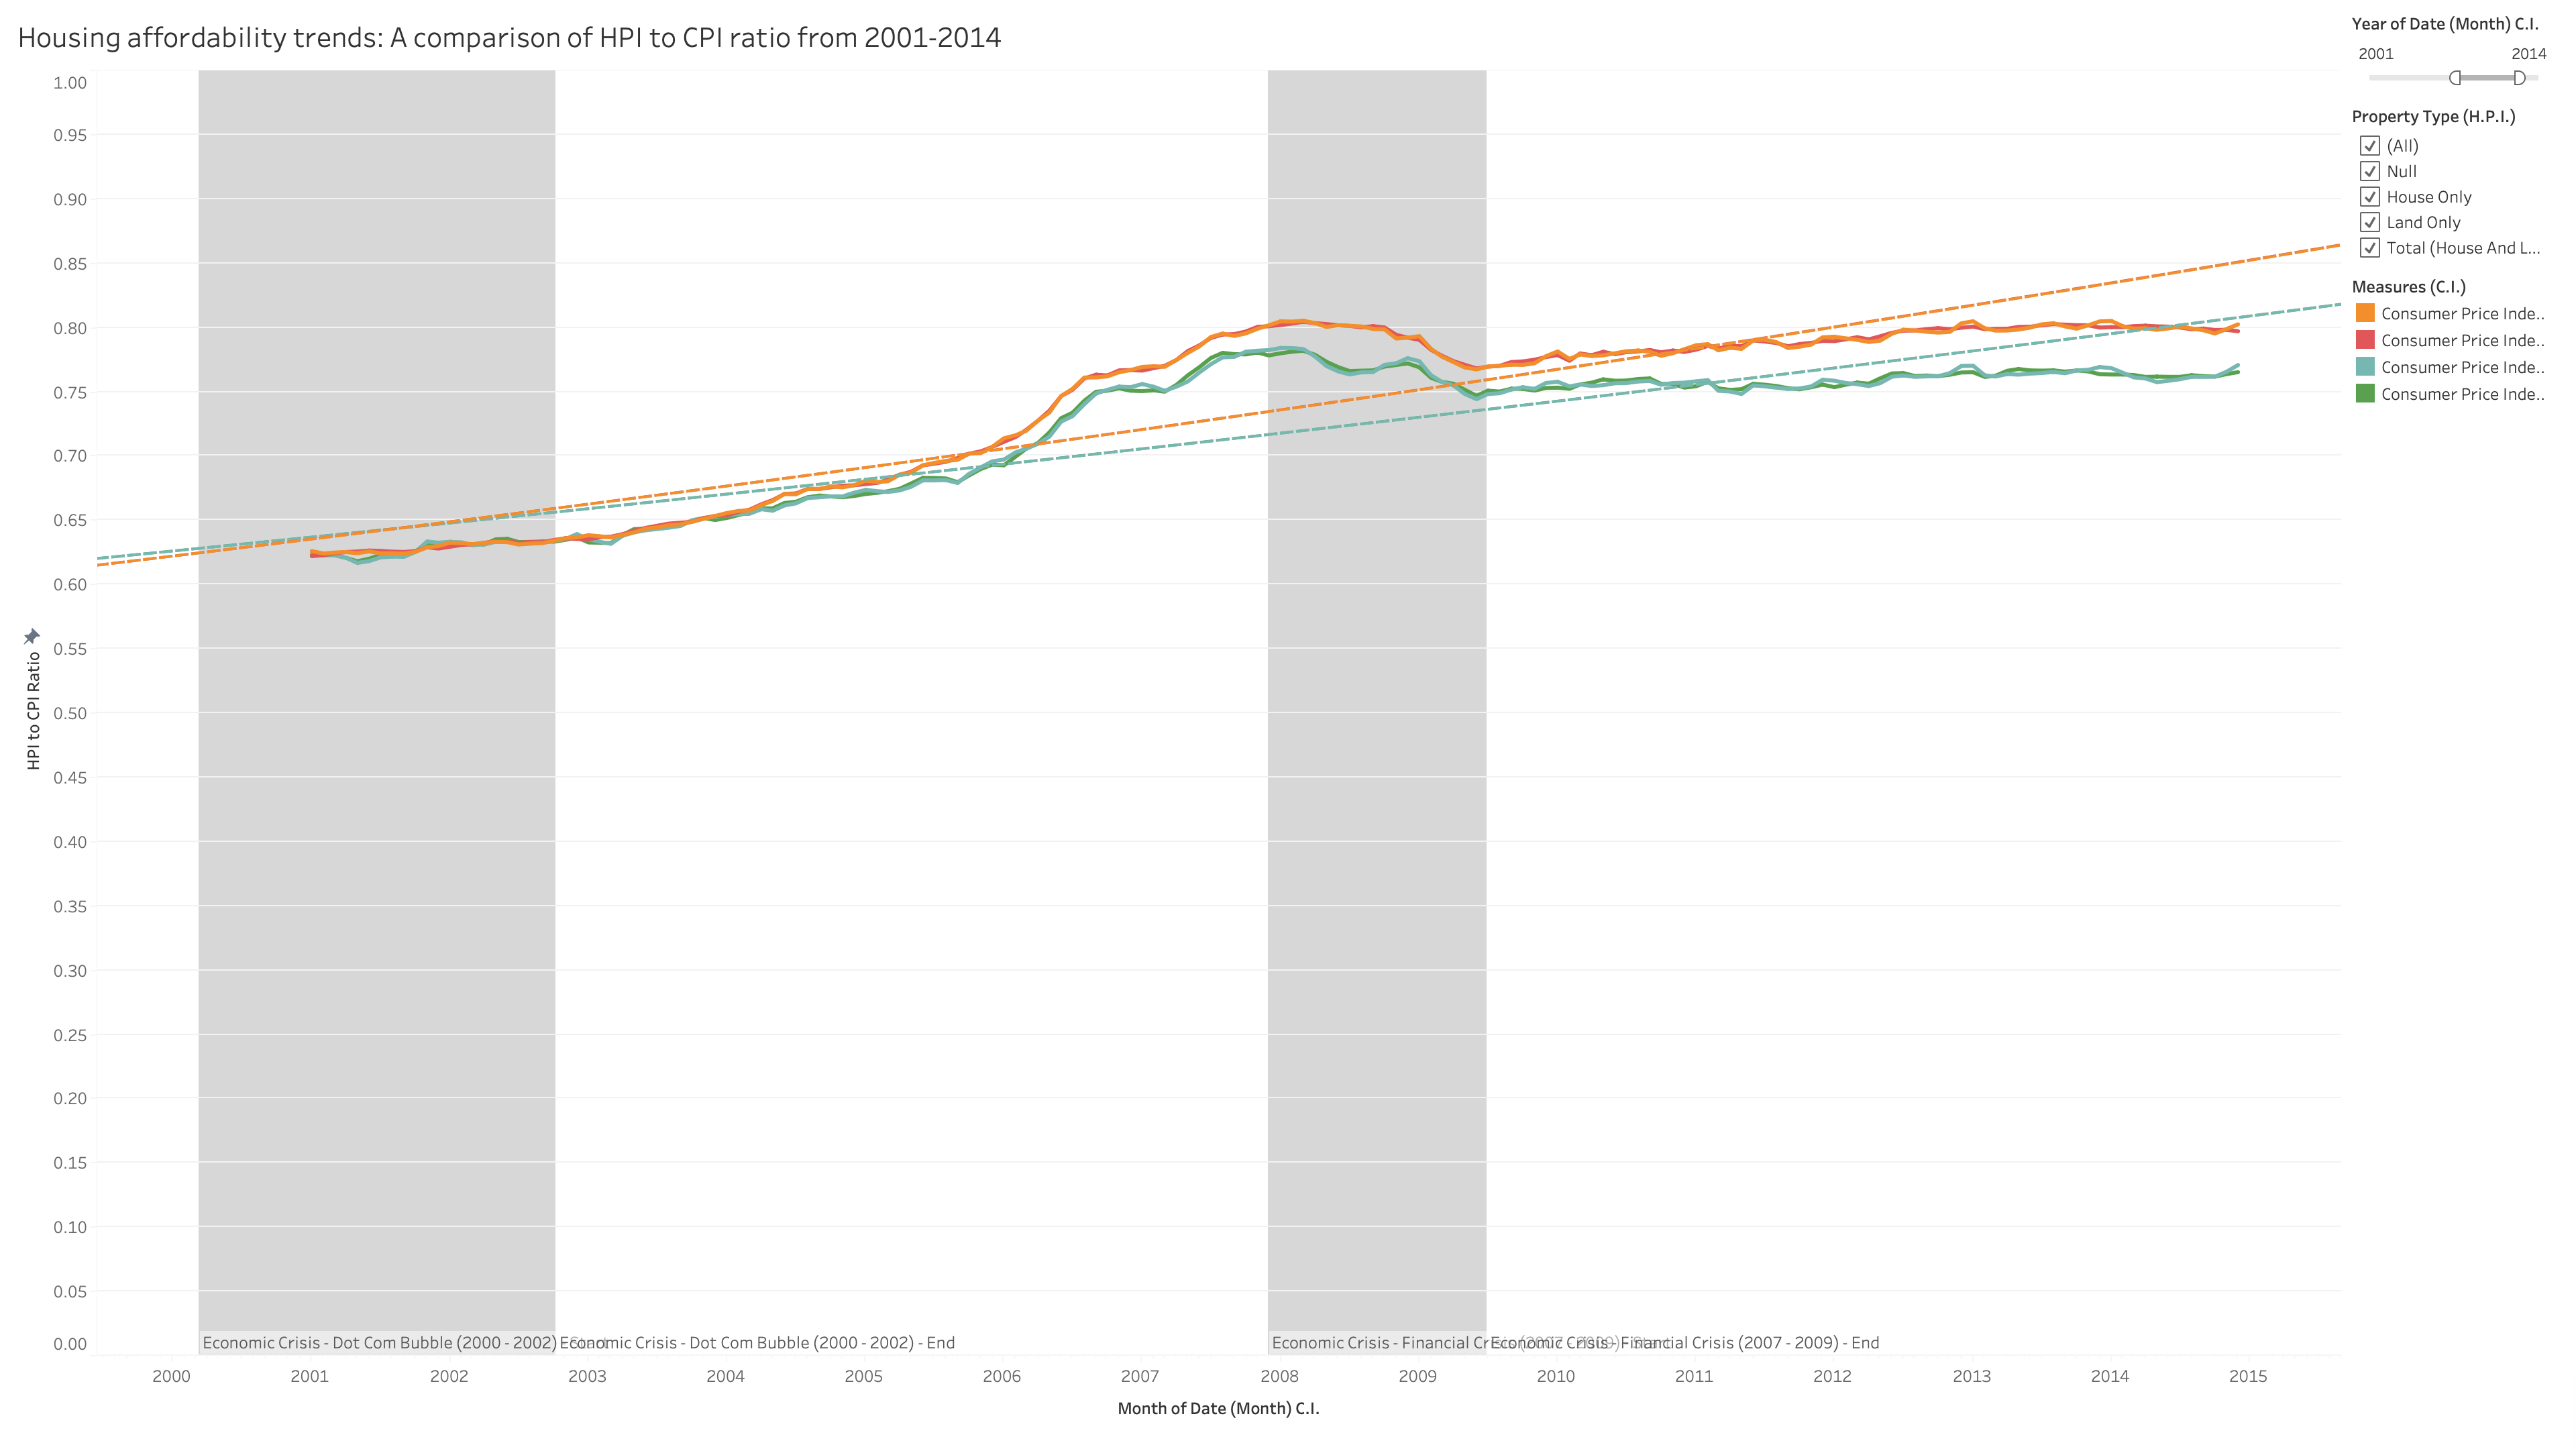

Layout of this report page (visuals, bound fields, positions):
{"tool":"tableau","page":{"name":"Dashboard Q7B","canvas":[1920,1080],"ordinal":9},"visuals":[{"type":"worksheet","title":"Housing affordability trends: A comparison of HPI to CPI ratio from 2001-2014","mark":"Automatic","rows":["Calculation_217157945906065425"],"cols":["Date (Month) C.I."],"box":[8,8,1744,1064]},{"type":"filter","title":"Housing affordability trends: A comparison of HPI to CPI ratio from 2001-2014","param":"[federated.0h3vvpx1g9mxug19i74591ak7h1p].[tyr:Date (Month) C.I.:qk]","box":[1752,8,160,69]},{"type":"filter","title":"Housing affordability trends: A comparison of HPI to CPI ratio from 2001-2014","param":"[federated.0h3vvpx1g9mxug19i74591ak7h1p].[none:Property Type (H.P.I.):nk]","box":[1752,77,160,127]},{"type":"legend","title":"Housing affordability trends: A comparison of HPI to CPI ratio from 2001-2014","param":"[federated.0h3vvpx1g9mxug19i74591ak7h1p].[none:Measures (C.I.):nk]","box":[1752,204,160,106]}]}

Visuals, with their boxes in screenshot pixels (x1, y1, x2, y2), scaled from the page's 1920x1080 canvas onto the 2576x1449 screenshot:
"Housing affordability trends: A comparison of HPI to CPI ratio from 2001-2014" worksheet: bbox=[11, 11, 2351, 1438]
"Housing affordability trends: A comparison of HPI to CPI ratio from 2001-2014" filter: bbox=[2351, 11, 2565, 103]
"Housing affordability trends: A comparison of HPI to CPI ratio from 2001-2014" filter: bbox=[2351, 103, 2565, 274]
"Housing affordability trends: A comparison of HPI to CPI ratio from 2001-2014" legend: bbox=[2351, 274, 2565, 416]
